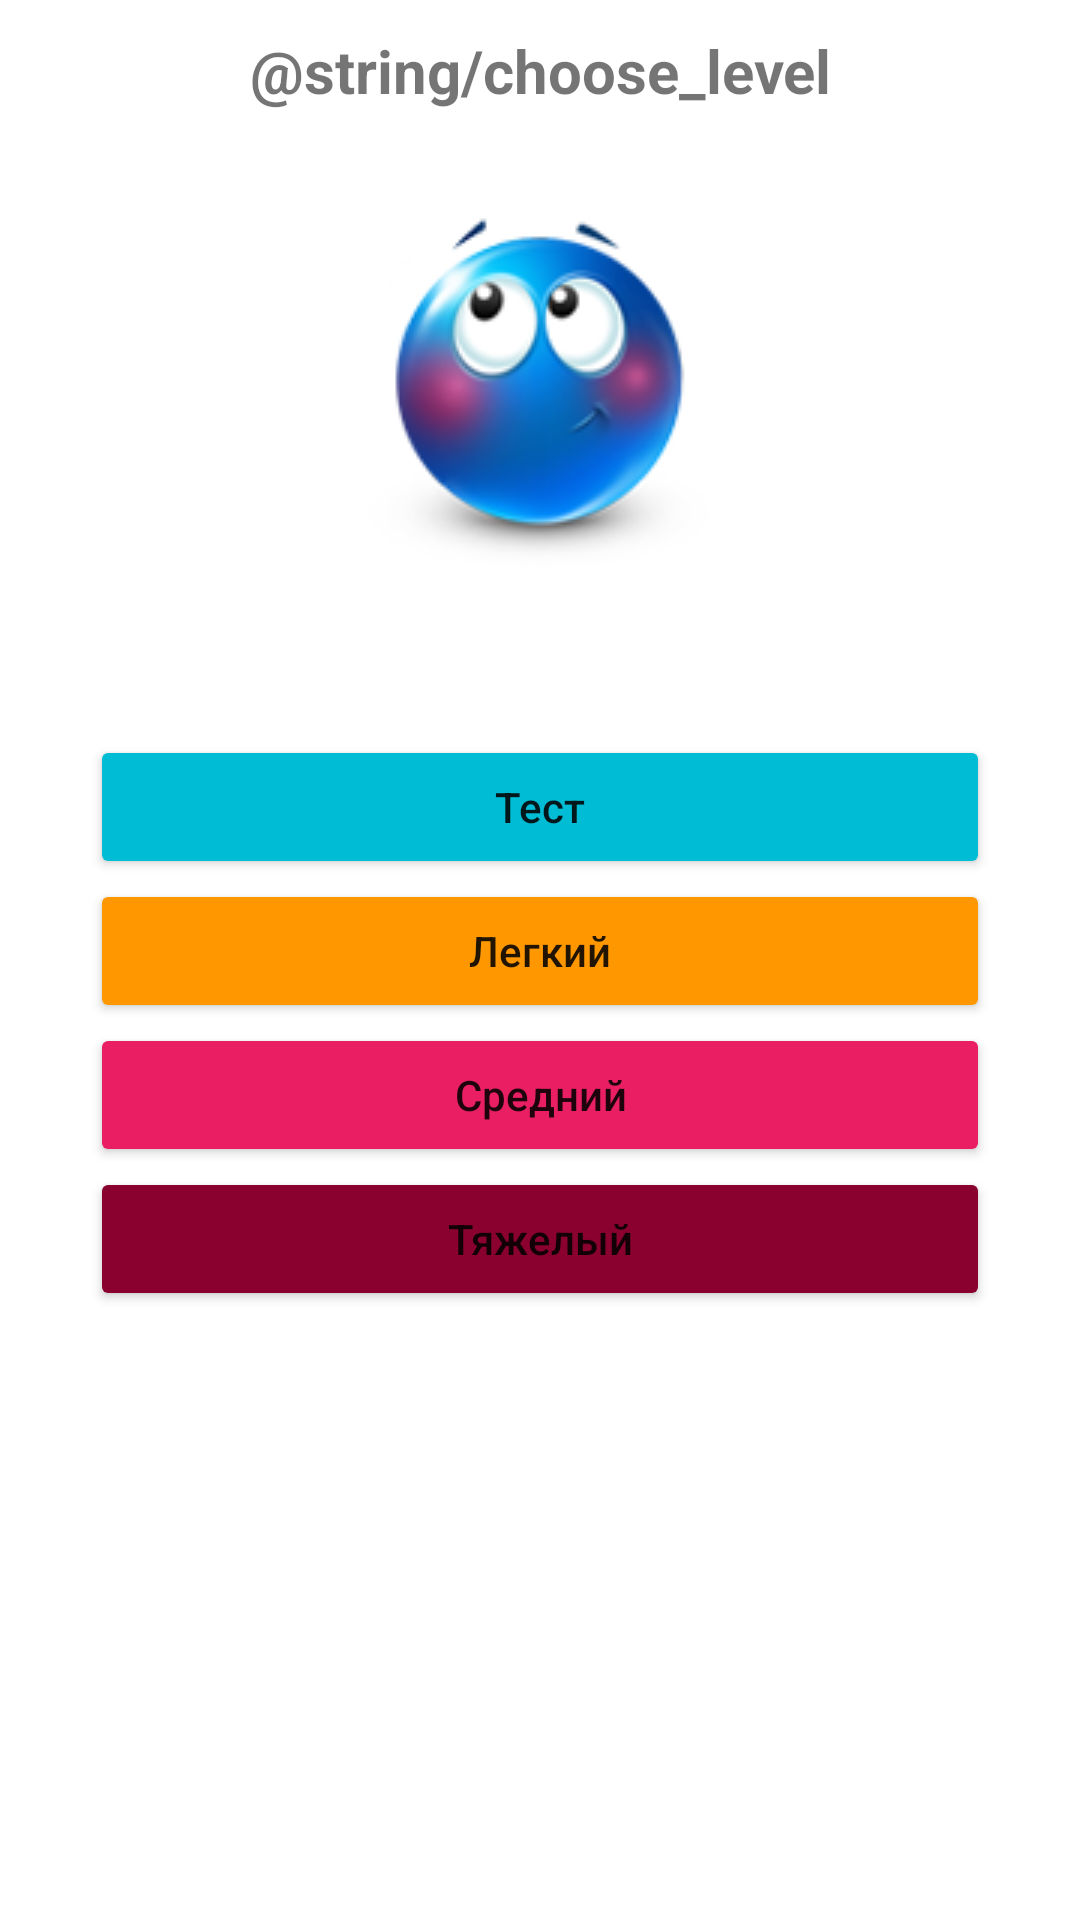

Icons on this 1080x1920 Android screen, each with its box as (x1, y1, x2, y2):
emo: (395, 219, 684, 545)
